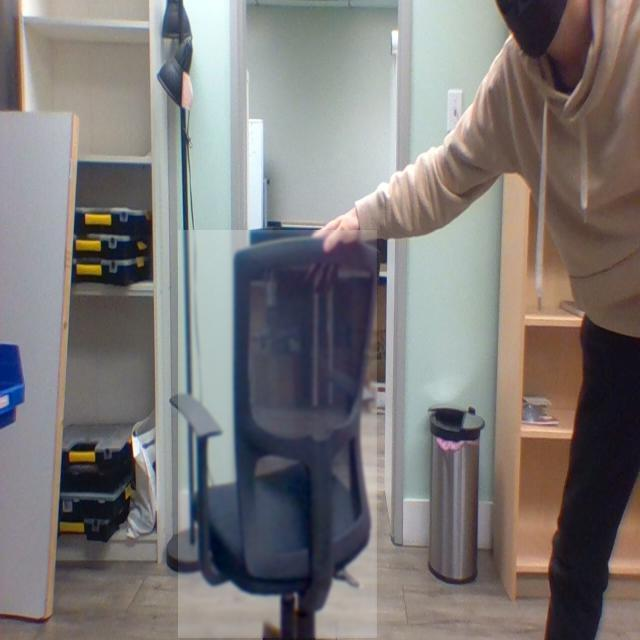chair: (178, 230, 378, 638)
